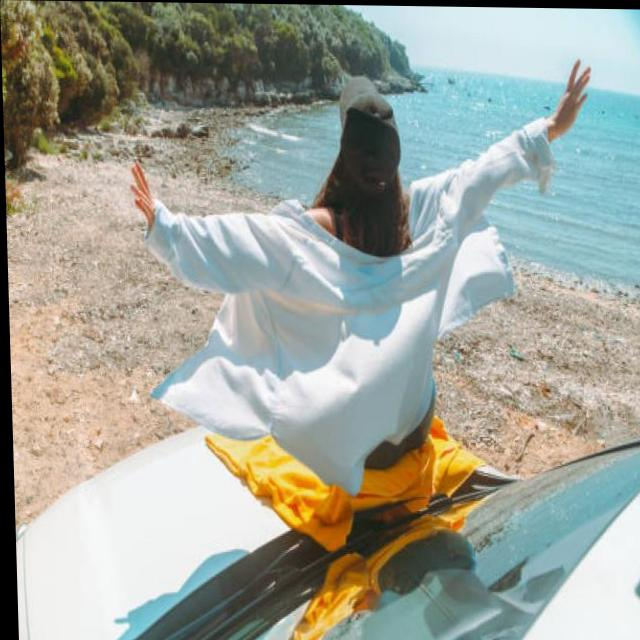no helmet: (322, 62, 410, 252)
